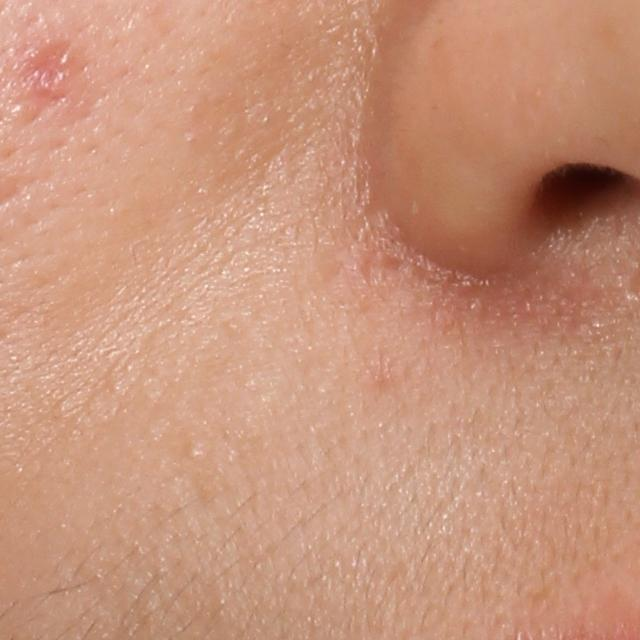atrophic_scar: (26, 39, 69, 87)
comedo: (182, 441, 205, 465)
